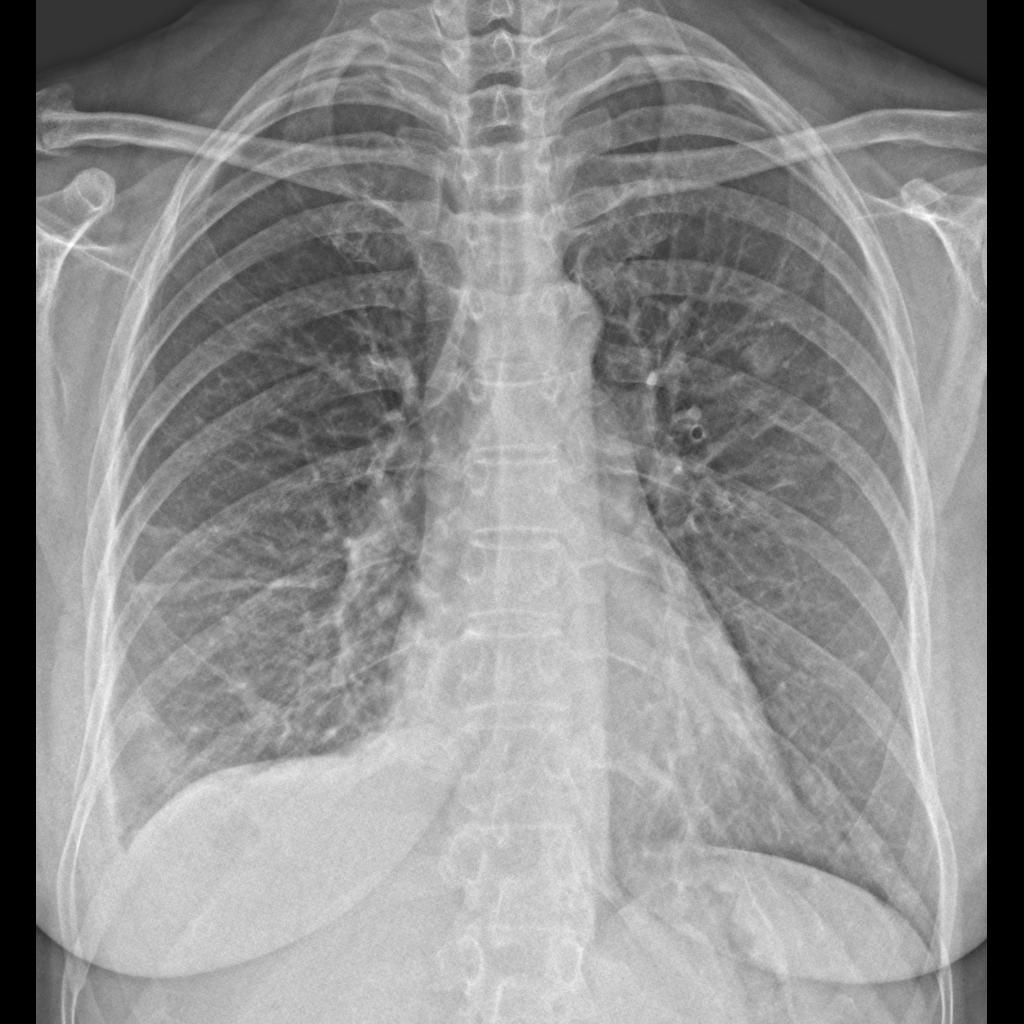Nodule: (747, 335, 785, 394)
